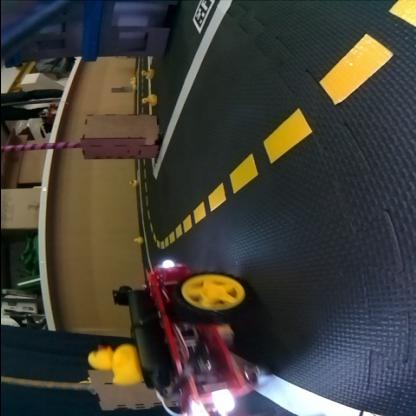Duckie: (86, 346, 136, 386), (141, 95, 155, 107), (140, 70, 152, 80), (127, 181, 136, 187), (133, 238, 141, 244)
Duckiebot: (122, 262, 253, 416)
QR code: (192, 1, 214, 33)
